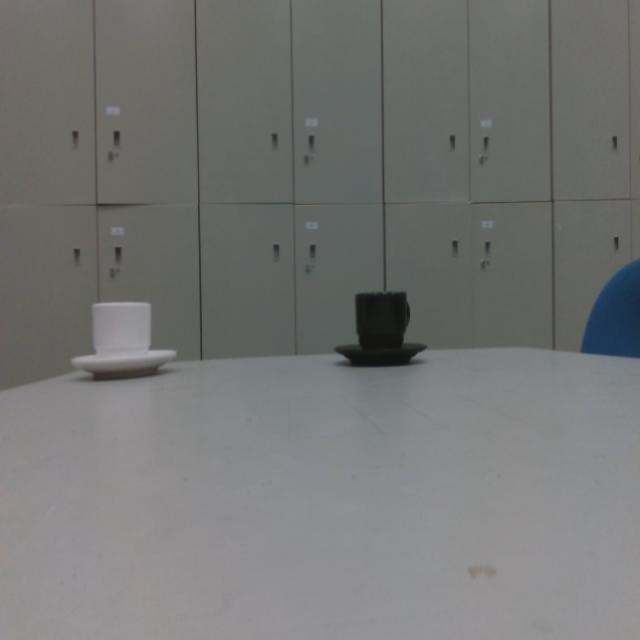black: (334, 288, 428, 368)
white: (69, 301, 179, 384)
